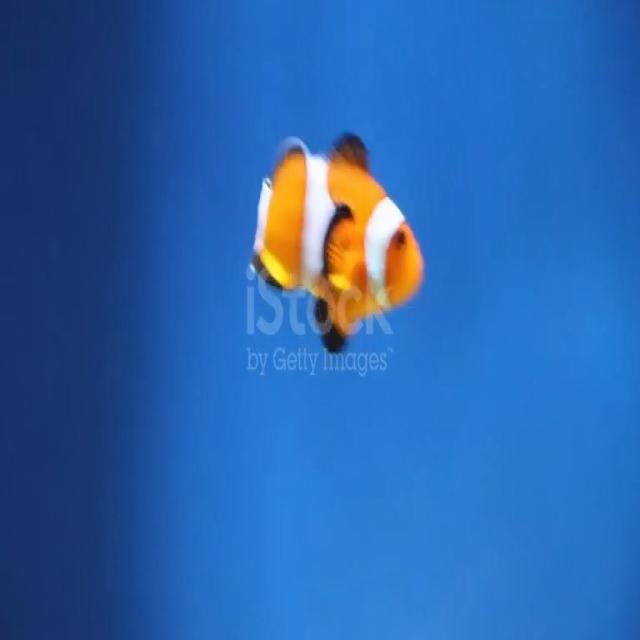fish: (251, 122, 440, 356)
